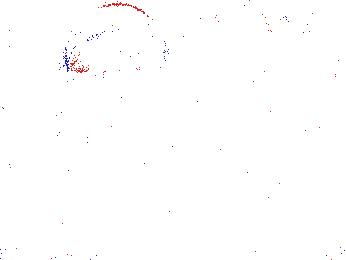moon jellyfish: (65, 3, 166, 76), (193, 1, 274, 86), (33, 84, 137, 150), (284, 3, 346, 77), (4, 14, 64, 88)
